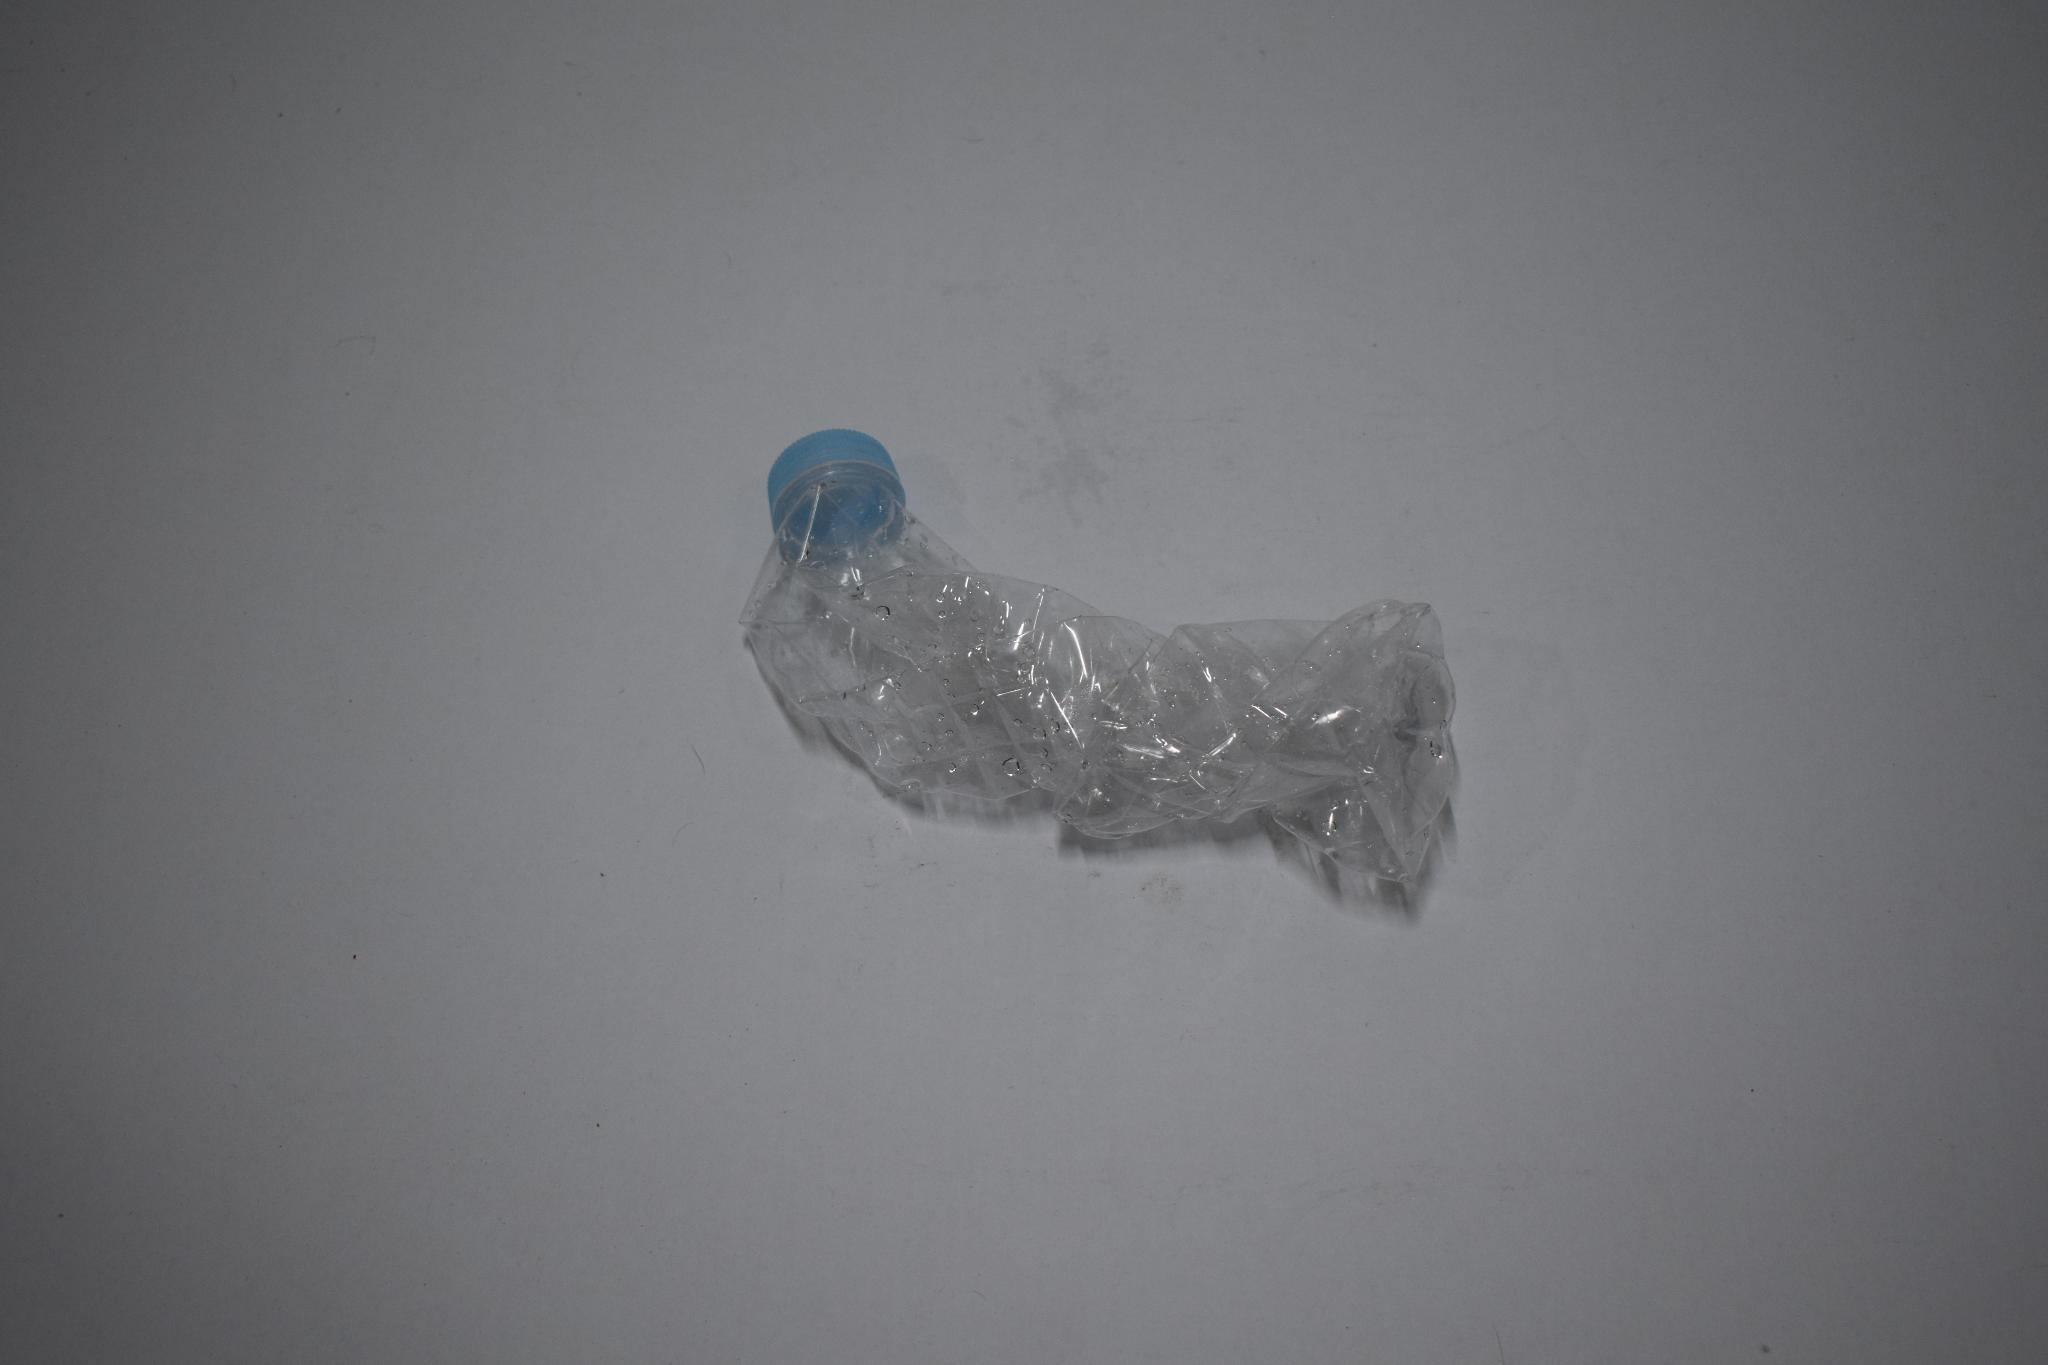bottle: (648, 399, 1522, 947)
